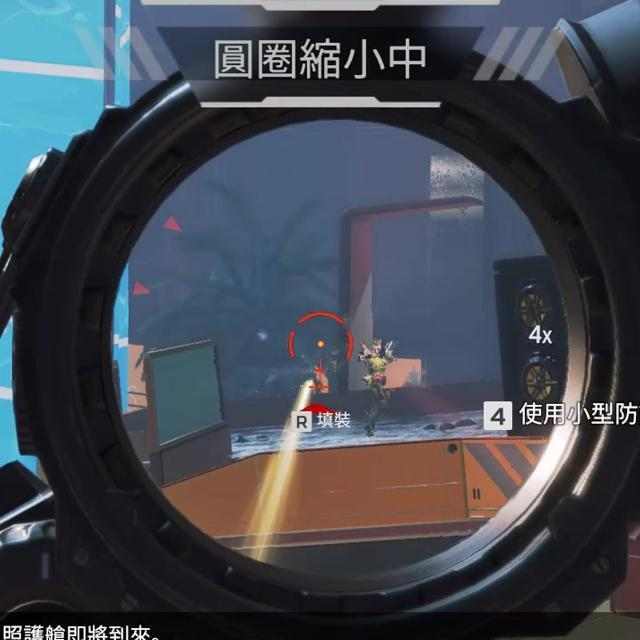avatar: (356, 336, 396, 439)
